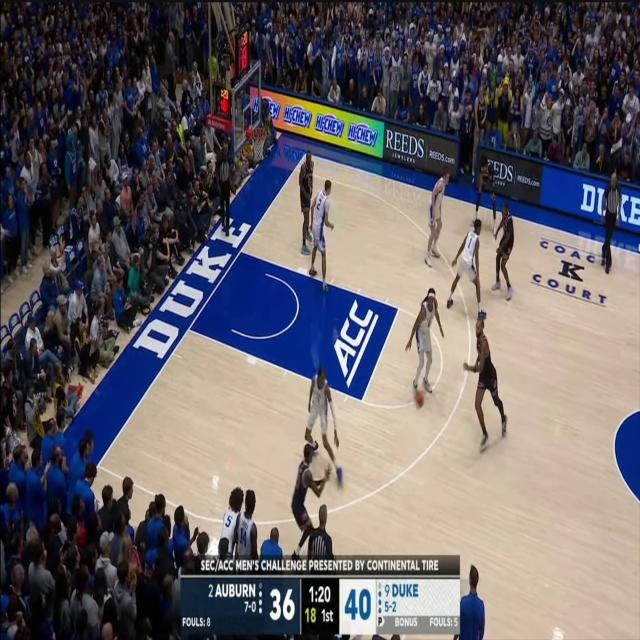basketball: (399, 376, 439, 423)
